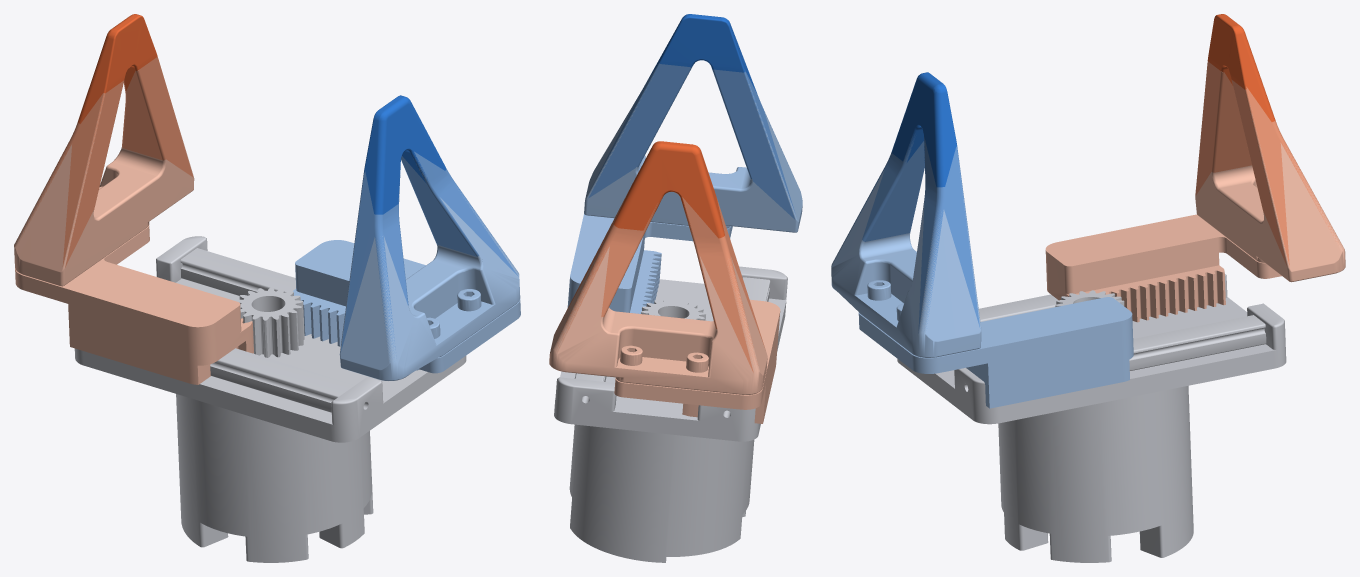
The model's file is gripper.glb.
The picture shows the model from 3 angles, left to right: view 1: azimuth 30°, elevation 25°; view 2: azimuth 150°, elevation 25°; view 3: azimuth 270°, elevation 25°; orthographic projection. The views are drawn at different scales.
Visible parts, largest first — view 1: hand; view 2: hand; view 3: hand.
Boxes of the visible parts, <box> form: hand: <box>14,14,520,562</box>; hand: <box>549,14,802,562</box>; hand: <box>831,14,1345,562</box>.
Size of the model in its own units: 0.1172 by 0.1557 by 0.1532.
